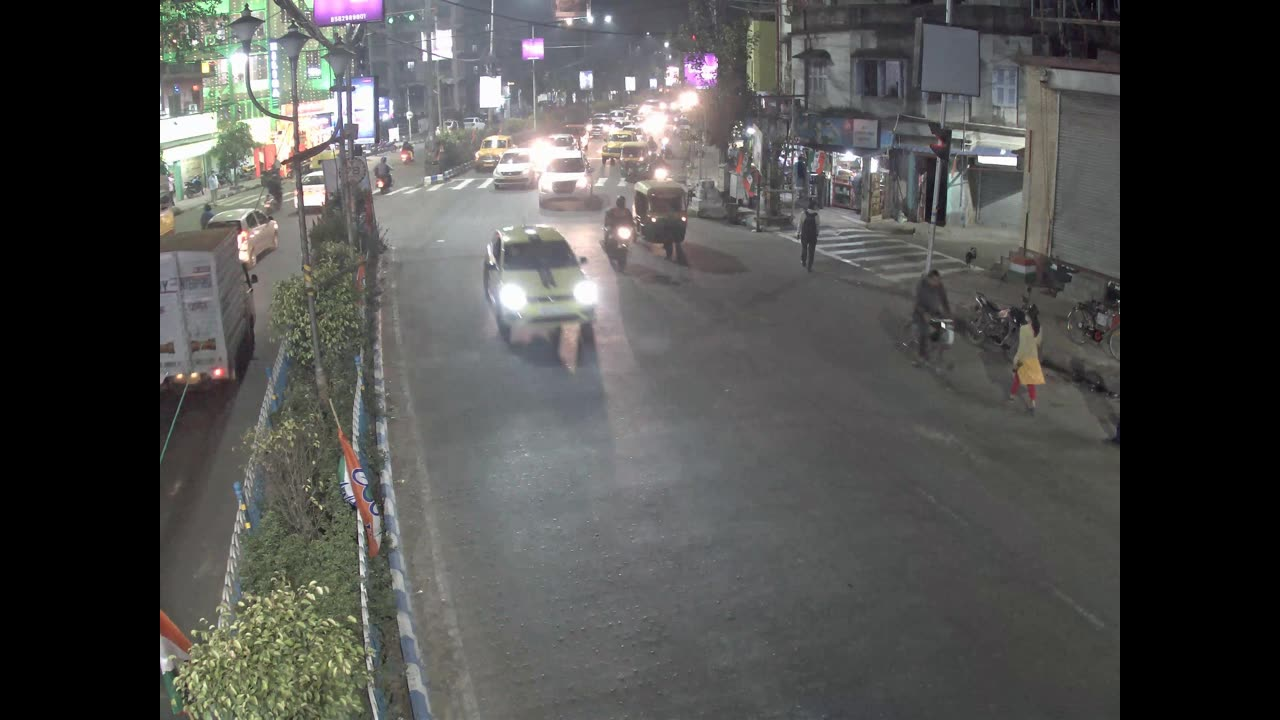auto-rickshaw: (637, 175, 694, 262), (621, 141, 649, 182)
bike: (595, 214, 649, 272), (372, 156, 396, 195)
car: (484, 214, 595, 333), (534, 150, 596, 212), (223, 203, 277, 255), (492, 148, 533, 191), (477, 135, 510, 161)
person: (1006, 303, 1050, 406), (912, 265, 951, 370), (795, 197, 827, 270), (606, 188, 636, 228)
